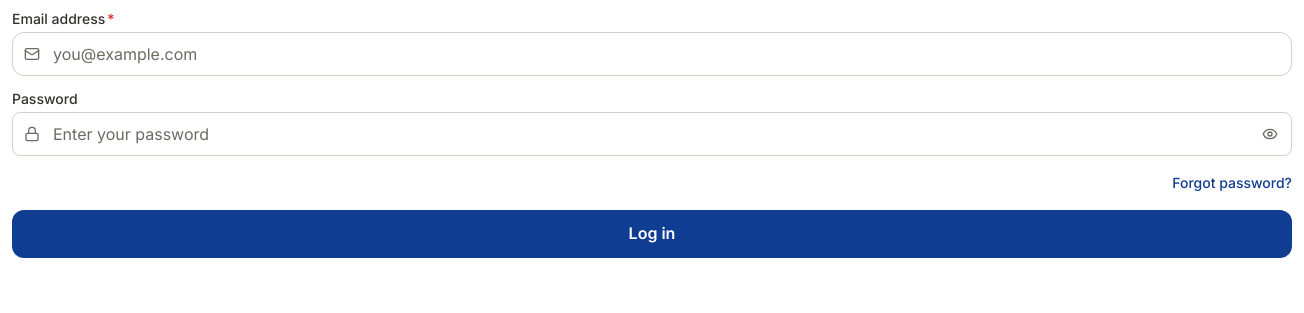
Test: LoginForm › shows invalid credentials error for unknown email
The image size is (1304, 313).
Type "nobody@nowhere.com" into the field labelled "Email address*" at coordinates (652, 54), box [12, 32, 1292, 76]
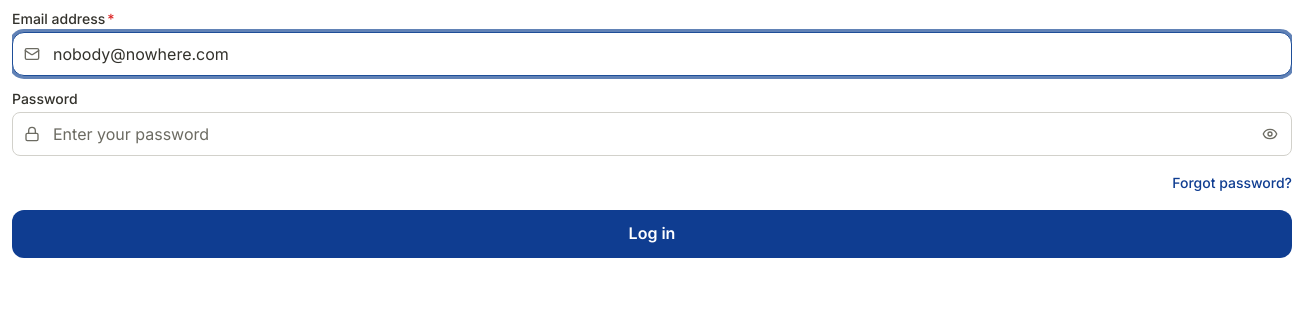
Type "wrong" into the password field labelled "Password" at coordinates (652, 134), box [12, 112, 1292, 156]
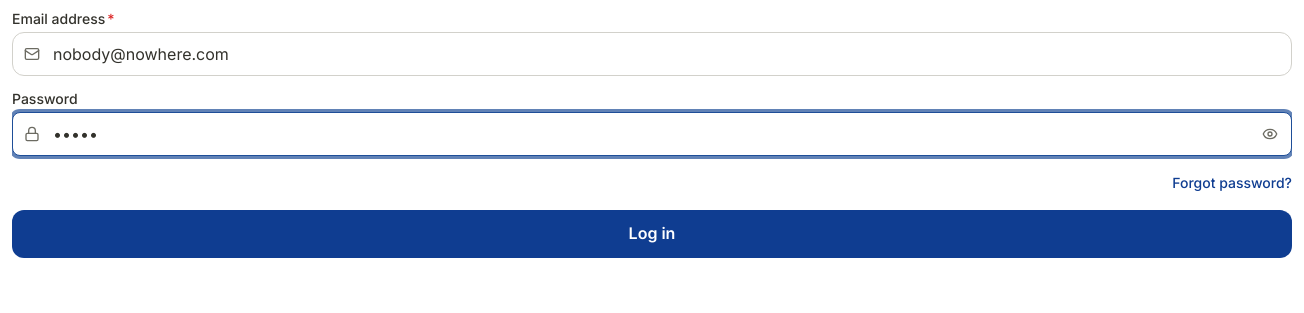
Click the button "Log in" at coordinates (652, 234), box [12, 210, 1292, 258]
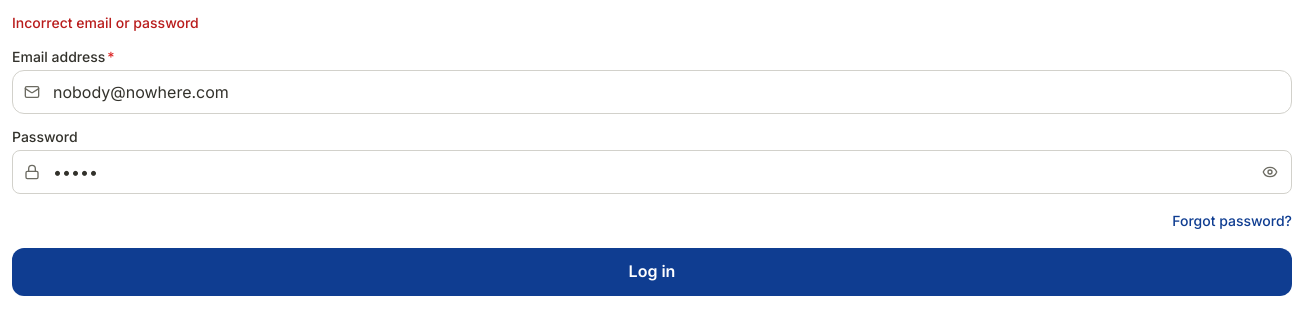
Expected: the message reads "Incorrect email or password", [12, 14, 199, 31]
